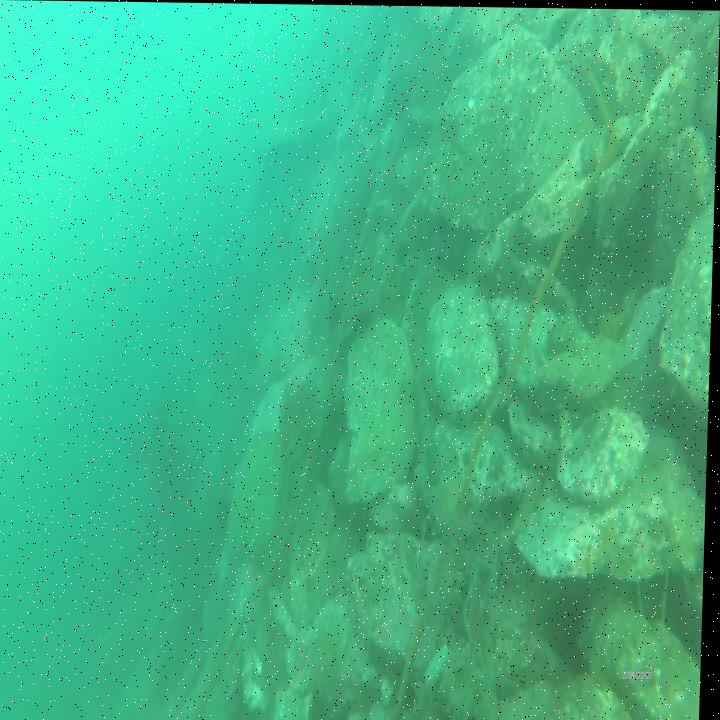echinus: (428, 468, 471, 537), (220, 494, 239, 530), (329, 303, 347, 335)
holothurian: (265, 578, 305, 644)
